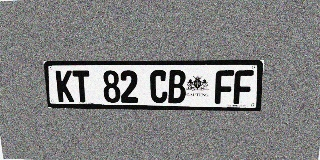2: (120, 70, 138, 103)
8: (102, 70, 121, 103)
B: (168, 70, 186, 103)
C: (150, 70, 167, 103)
F: (233, 70, 254, 104), (215, 70, 234, 104)
K: (55, 70, 74, 102)
T: (72, 70, 91, 102)
